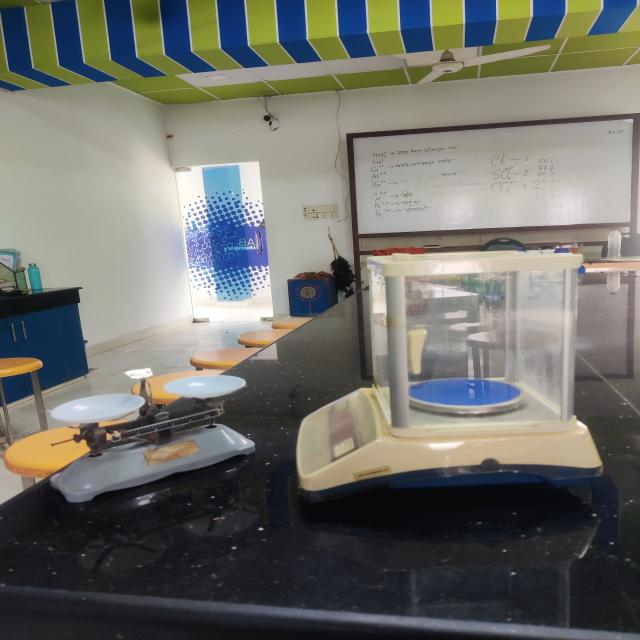Mechanical_Balance_Scale: (32, 362, 257, 508)
Precision_Weight_Scale: (282, 228, 626, 520)
